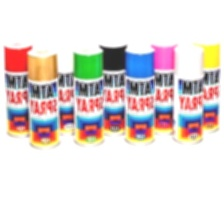aerosol_cans: (168, 41, 207, 146), (44, 35, 82, 138), (25, 44, 61, 152), (122, 43, 159, 147), (186, 32, 223, 135), (1, 38, 38, 140), (71, 43, 106, 149), (146, 36, 182, 138), (96, 35, 131, 138)
